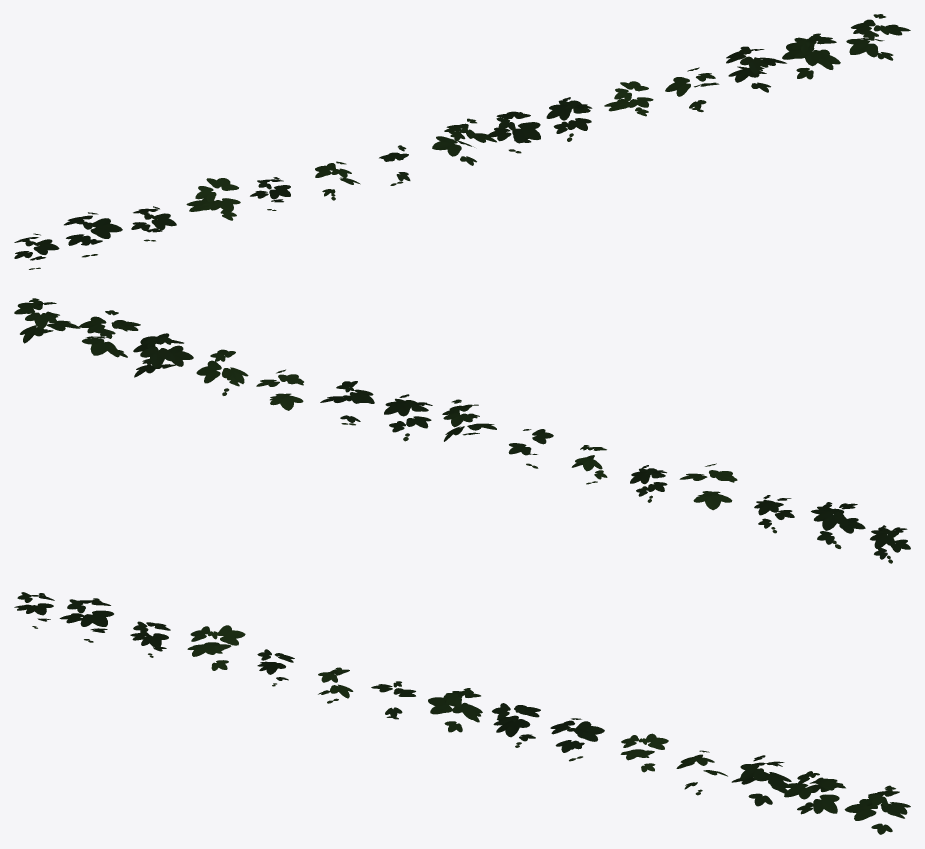
Rendered from ROW_08_SEG4_foliage.dae.
3 renders of one model, top to bottom at view 1: azimuth 30°, elevation 25°; view 2: azimuth 150°, elevation 25°; view 3: azimuth 330°, elevation 25°, orthographic.
Parts seen in each view (by area): view 1: ROW_08_SEG4_foliage; view 2: ROW_08_SEG4_foliage; view 3: ROW_08_SEG4_foliage.
Boxes of the visible parts, x1,y1,x2,y2 form: ROW_08_SEG4_foliage: [14, 14, 910, 269]; ROW_08_SEG4_foliage: [14, 298, 910, 563]; ROW_08_SEG4_foliage: [14, 592, 910, 834].
Bounding box in the file's own units: 4.5 × 0.3179 × 0.2474.
